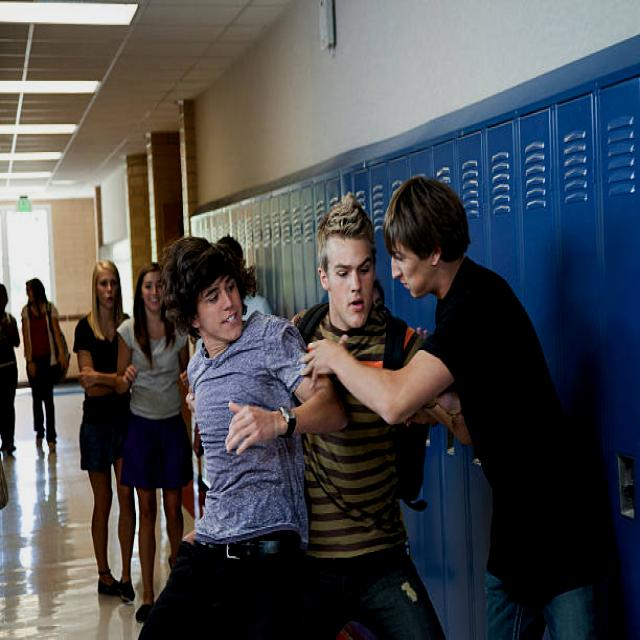fight: (300, 174, 537, 608), (172, 194, 412, 622)
